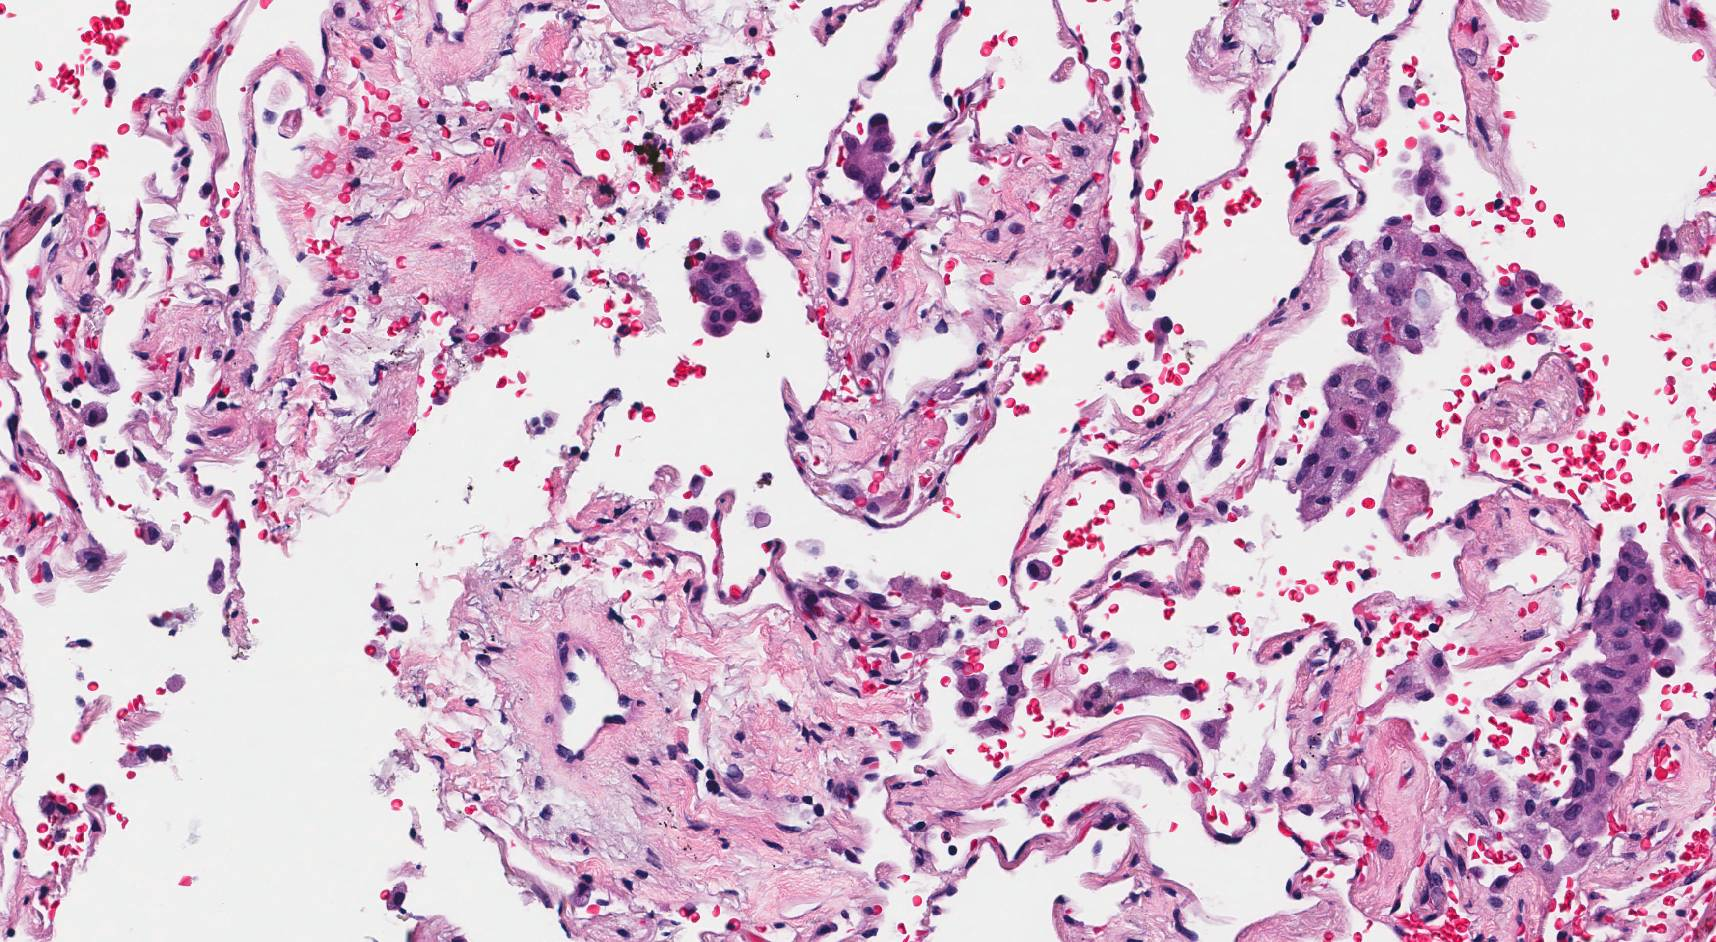stas: (1540, 538, 1682, 838), (690, 257, 762, 337), (838, 112, 897, 198)
